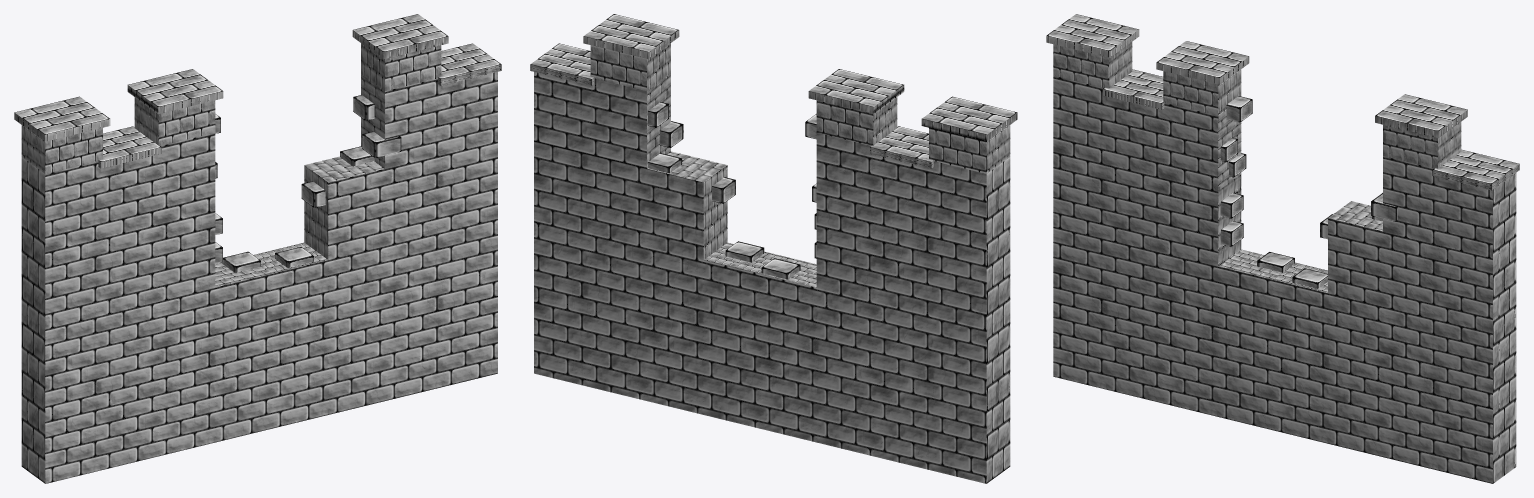
The model's file is stonewallDamaged.fbx.
3 renders of one model, left to right at view 1: azimuth 30°, elevation 25°; view 2: azimuth 150°, elevation 25°; view 3: azimuth 330°, elevation 25°, orthographic. The views are drawn at different scales.
Parts seen in each view (by area): view 1: Cube.009; view 2: Cube.009; view 3: Cube.009.
Part boxes in pixels (x1,y1,x2,y2): Cube.009: (14, 14, 501, 483); Cube.009: (530, 14, 1017, 483); Cube.009: (1046, 14, 1519, 483).
Bounding box in the file's own units: 2214 × 1630 × 255.
